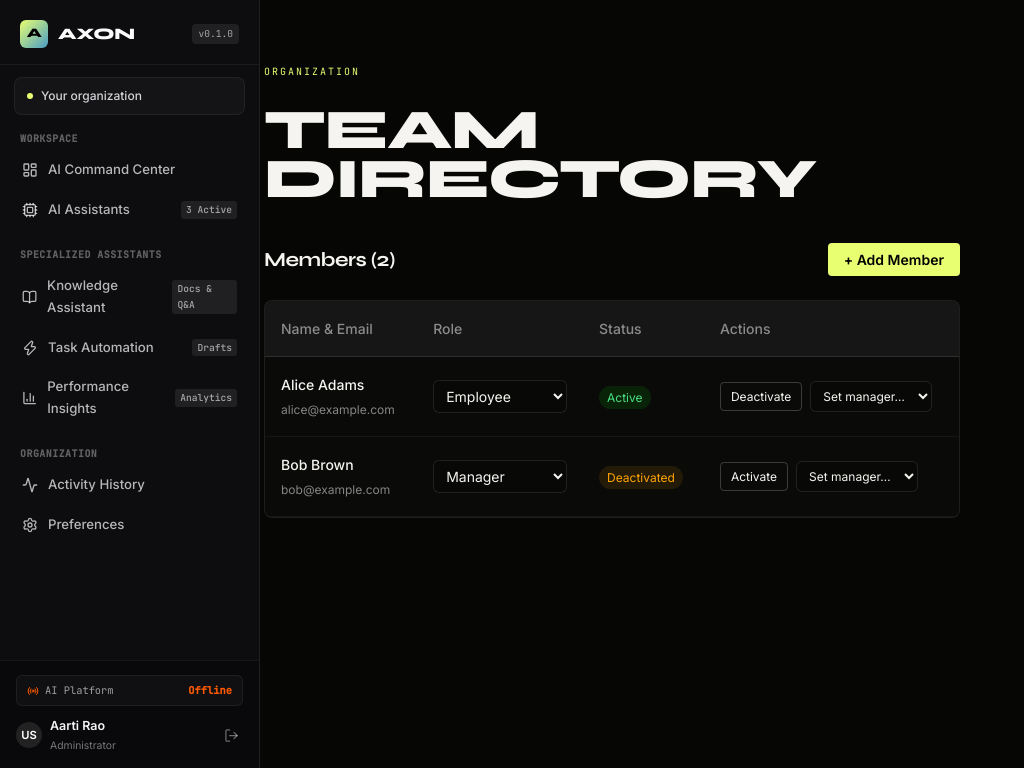
Test: OrganizationPage › reports a failed role change instead of showing it as done
The width and height of the screenshot is (1024, 768).
Step 1. Select "Manager" in the dropdown named "Role for Alice Adams" → (500, 397), box [433,380,567,413]
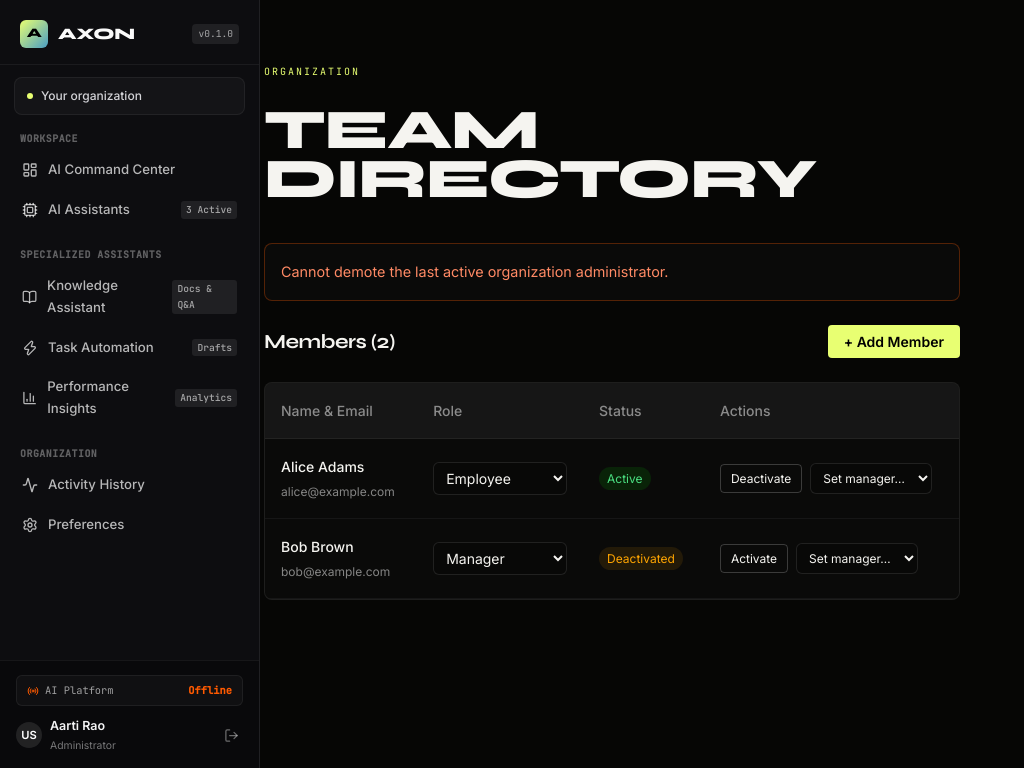
expect the text "Cannot demote the last active organization administrator." is shown: met, box [264,243,960,301]
